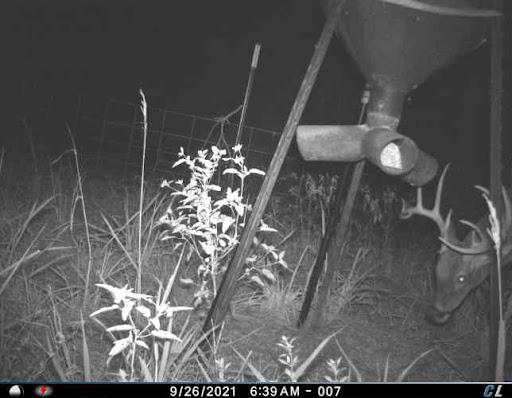Deer: (393, 152, 512, 387)
